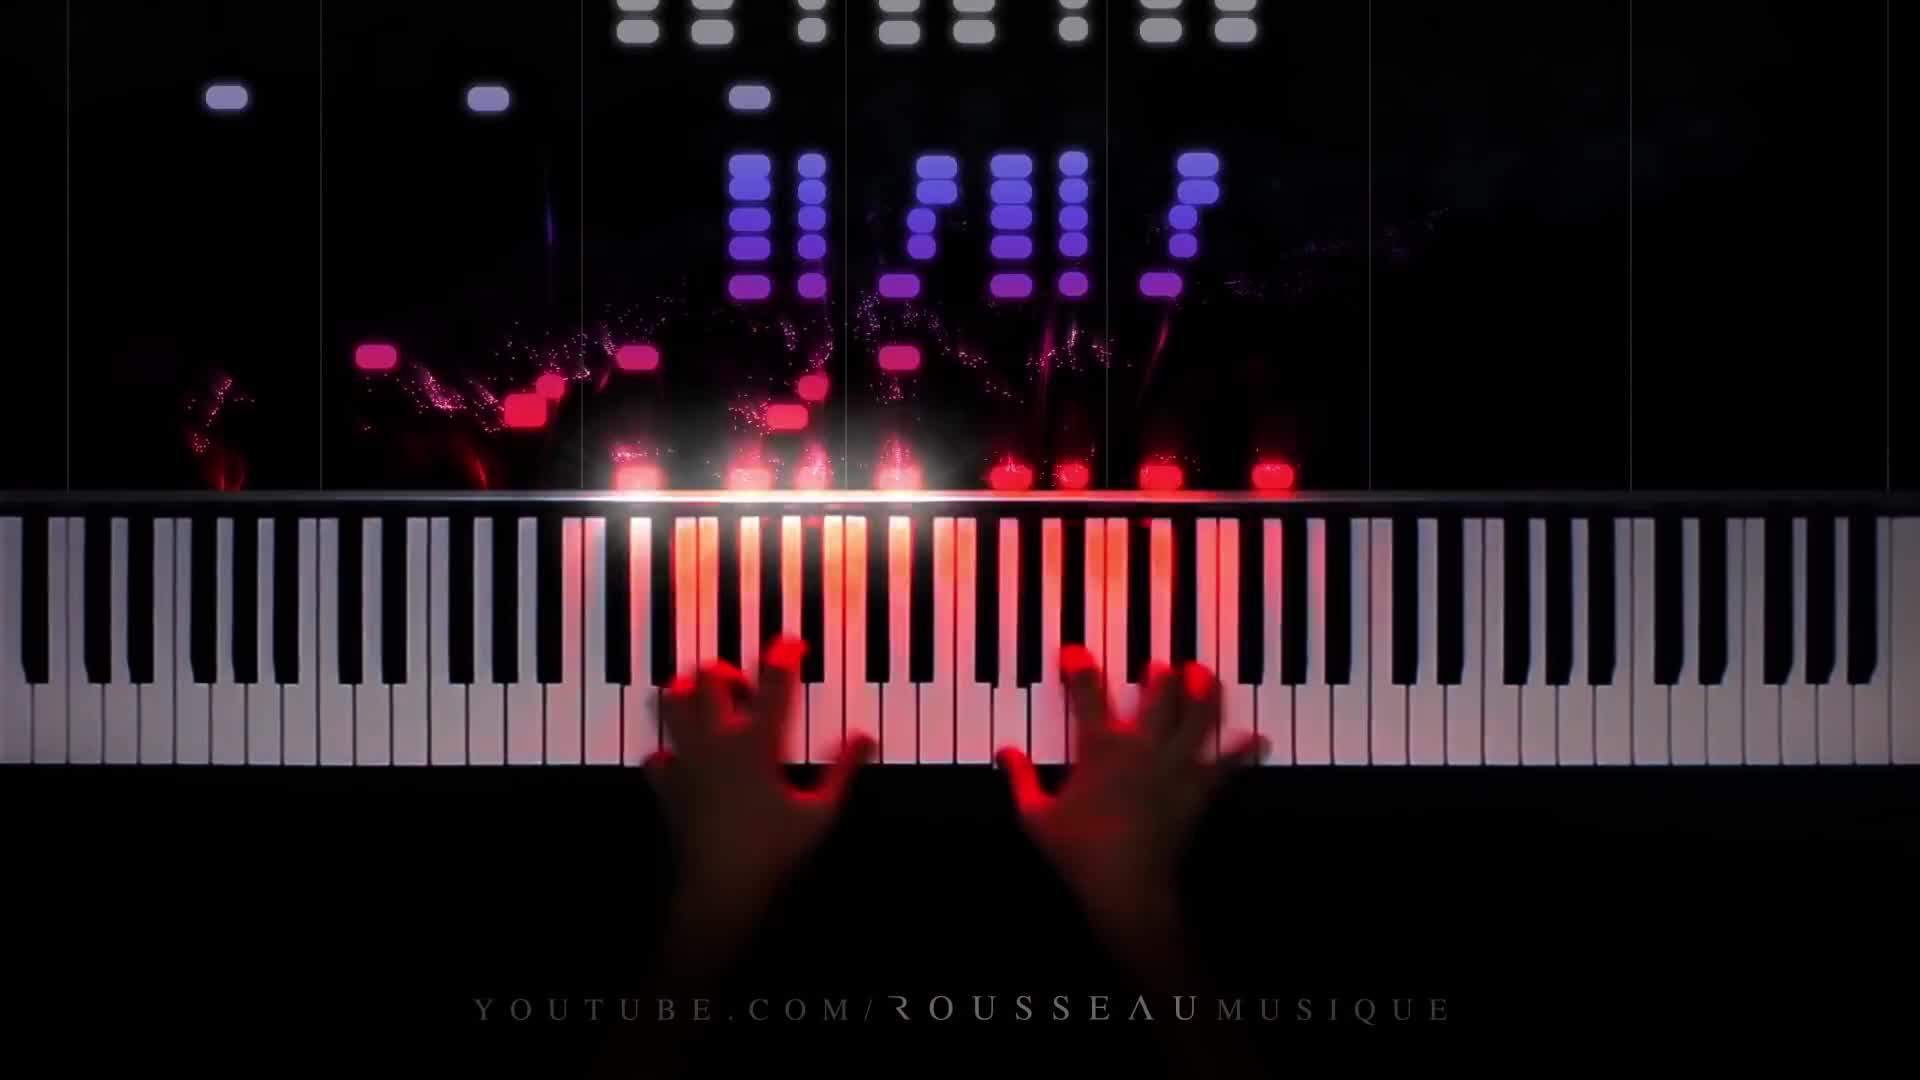left: (633, 630, 880, 901)
right: (997, 644, 1267, 895)
